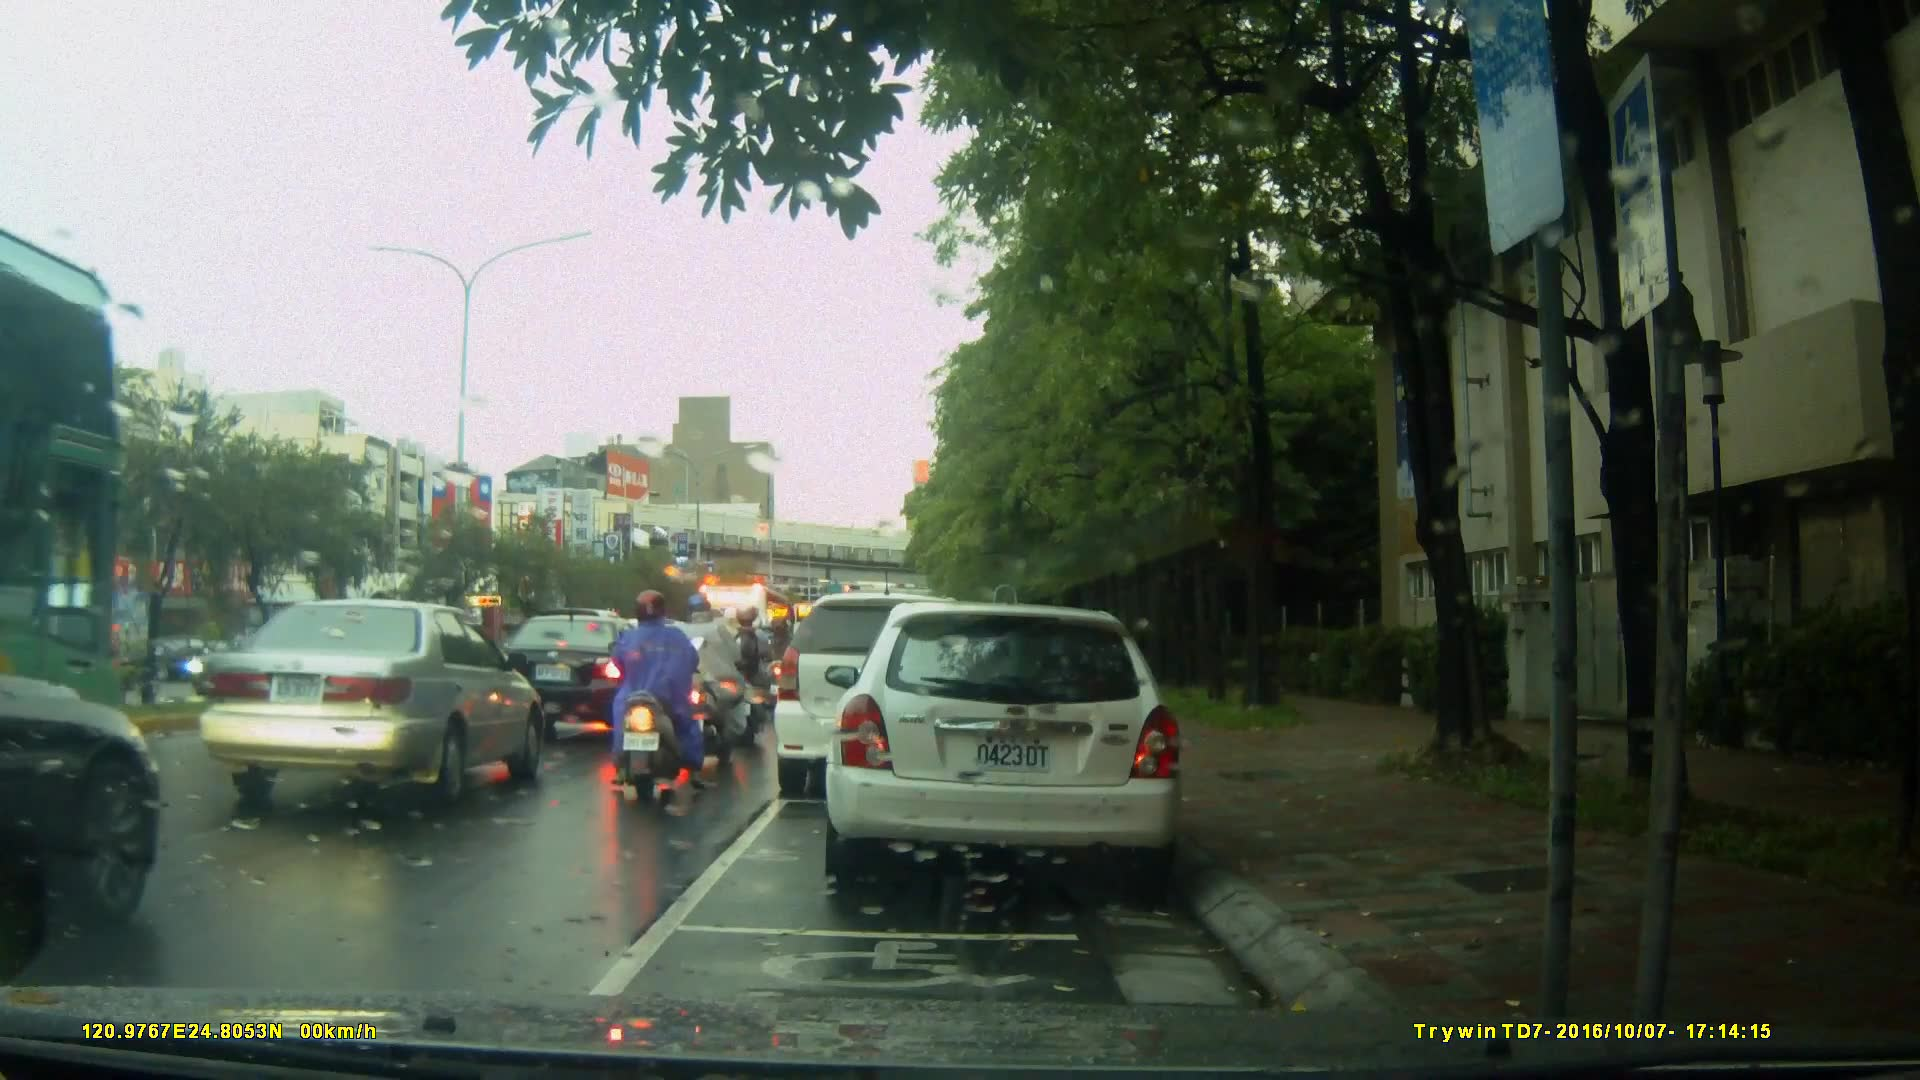rider: (597, 587, 704, 804), (685, 590, 759, 765), (718, 604, 770, 725)
vehicle: (831, 592, 1196, 897), (192, 598, 555, 809), (769, 592, 999, 799), (486, 611, 671, 741), (689, 581, 805, 706)
